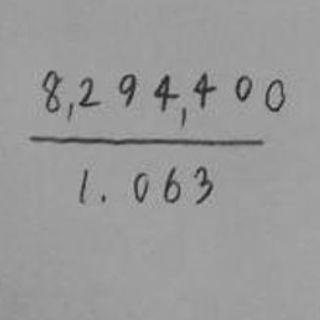.: (99, 193, 107, 204)
0: (263, 78, 287, 113), (233, 73, 254, 103), (132, 171, 150, 204)
1: (78, 166, 90, 205)
2: (78, 75, 102, 108)
3: (192, 165, 215, 206)
4: (152, 72, 181, 114), (192, 70, 218, 110)
6: (161, 166, 182, 204)
8: (40, 69, 62, 114)
9: (117, 72, 138, 108)
